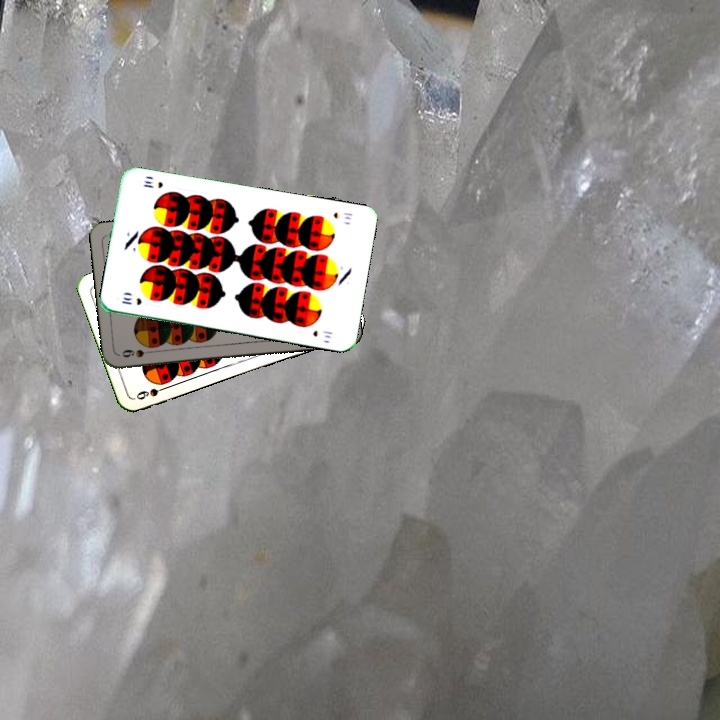S10: (117, 293, 144, 308), (329, 208, 355, 222)
S9: (132, 382, 171, 402), (118, 345, 158, 360)
